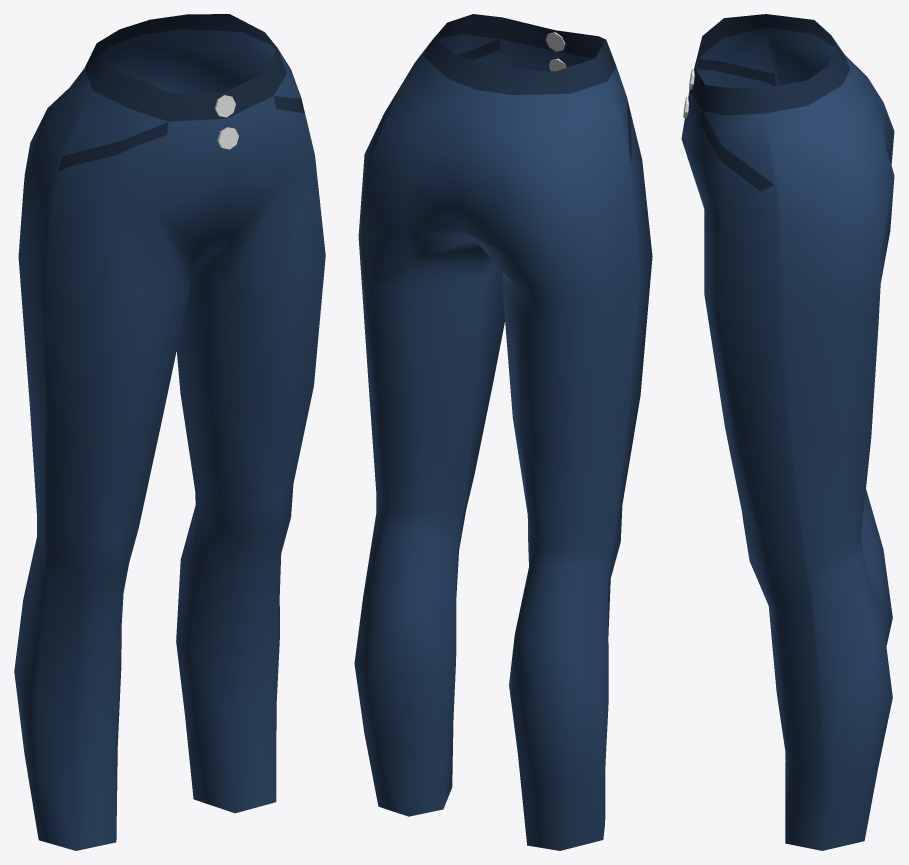
File: PantsSam.fbx
3 views of the same model, side by side, from view 1: azimuth 30°, elevation 25°; view 2: azimuth 150°, elevation 25°; view 3: azimuth 270°, elevation 25° (orthographic). The views are drawn at different scales.
Parts seen in each view (by area): view 1: PantsSam; view 2: PantsSam; view 3: PantsSam.
Boxes of the visible parts, x1,y1,x2,y2 form: PantsSam: (14, 14, 325, 850); PantsSam: (354, 14, 652, 850); PantsSam: (681, 14, 894, 850).
Size of the model in its own units: 37.36 by 104 by 26.85.
